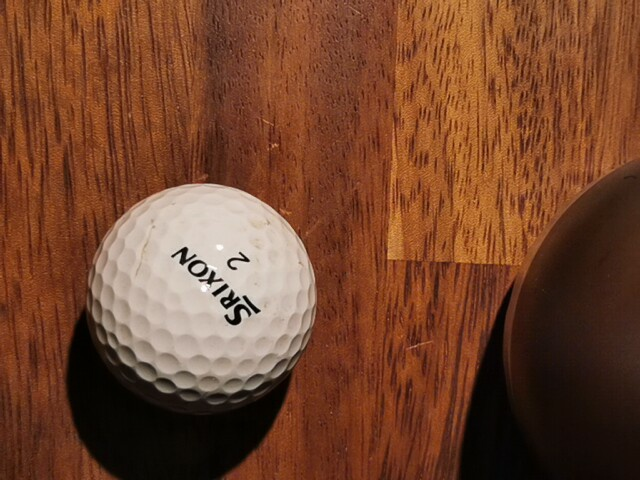Ball: (85, 183, 318, 418)
Srixon: (171, 246, 261, 326)
